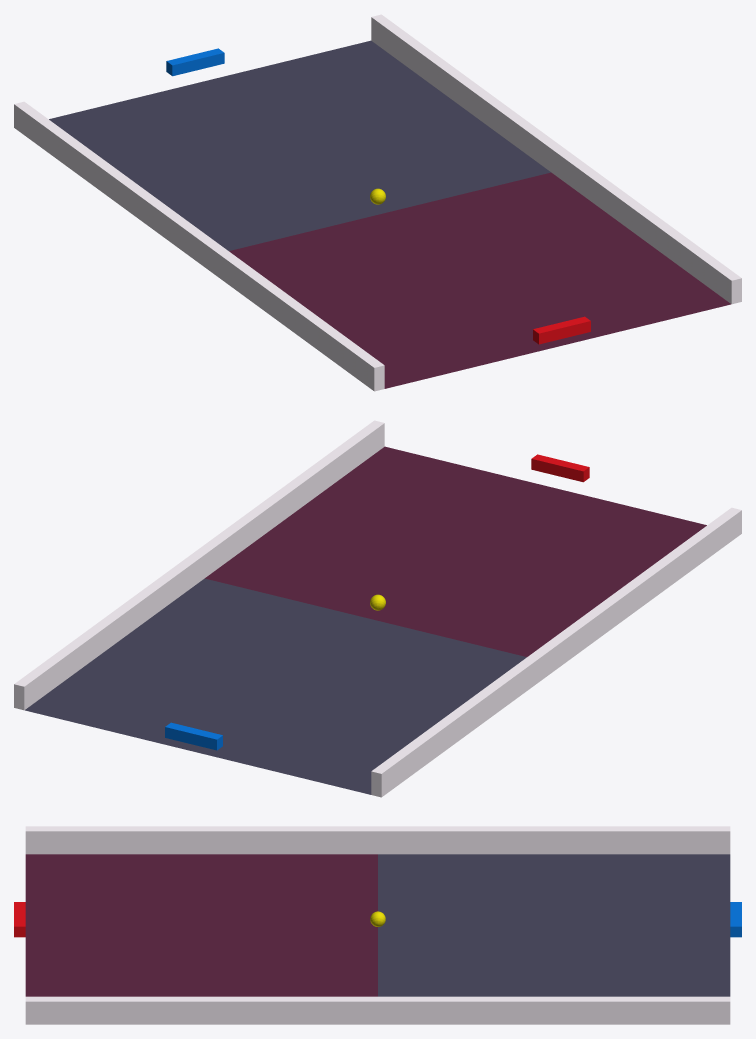
File: pong.glb
3 views of the same model, one above another, from view 1: azimuth 30°, elevation 25°; view 2: azimuth 150°, elevation 25°; view 3: azimuth 270°, elevation 25° (orthographic). The views are drawn at different scales.
Parts seen in each view (by area): view 1: court1, court2, boundary1, boundary1.001, paddle2, paddle1; view 2: court2, court1, boundary1, boundary1.001, paddle1, paddle2; view 3: court2, court1, boundary1, boundary1.001, paddle2, paddle1.
Part boxes in pixels (left/top/right/bottom): court1: left=49, top=40, right=550, bottom=250; court2: left=229, top=172, right=730, bottom=388; boundary1: left=371, top=14, right=741, bottom=304; boundary1.001: left=14, top=101, right=384, bottom=391; paddle2: left=166, top=48, right=224, bottom=76; paddle1: left=533, top=316, right=590, bottom=344; court2: left=205, top=446, right=706, bottom=656; court1: left=25, top=578, right=526, bottom=794; boundary1: left=14, top=420, right=384, bottom=710; boundary1.001: left=371, top=507, right=741, bottom=797; paddle1: left=531, top=454, right=589, bottom=482; paddle2: left=165, top=722, right=222, bottom=750; court2: left=25, top=854, right=377, bottom=996; court1: left=378, top=854, right=730, bottom=996; boundary1: left=25, top=996, right=730, bottom=1024; boundary1.001: left=25, top=826, right=730, bottom=854; paddle2: left=730, top=902, right=741, bottom=937; paddle1: left=14, top=902, right=25, bottom=937.
Bounding box in the file's own units: 10.6 × 0.7 × 18.6.
